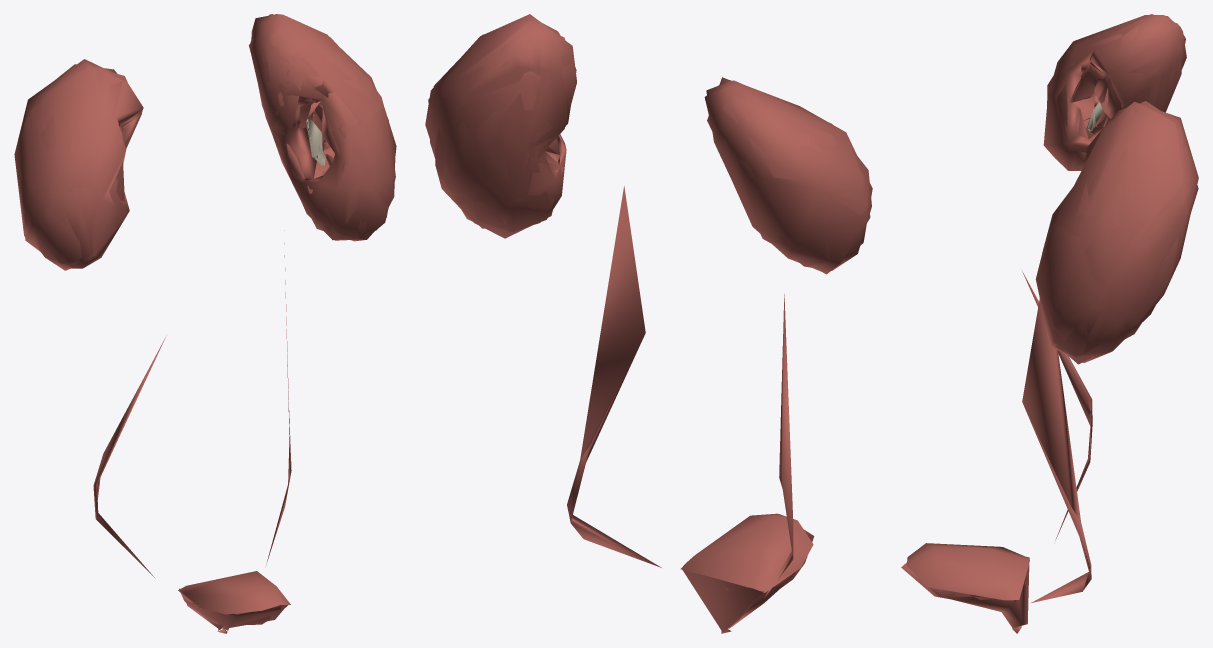
Rendered from adult_female.urinary.LOD4.glb.
3 renders of one model, left to right at view 1: azimuth 30°, elevation 25°; view 2: azimuth 150°, elevation 25°; view 3: azimuth 270°, elevation 25°, orthographic. The views are drawn at different scales.
Visible parts, largest first — view 1: ADULT.FEMALE.URINARY.KIDNEY_CAPSULE.R, ADULT.FEMALE.URINARY.KIDNEY_CAPSULE.L, ADULT.FEMALE.URINARY.OUTER_CORTEX_OF_KIDNEY.L, ADULT.FEMALE.URINARY.FUNDUS_OF_URINARY_BLADDER_DOME, ADULT.FEMALE.URINARY.OUTER_CORTEX_OF_KIDNEY.R, ADULT.FEMALE.URINARY.FUNDUS_OF_URINARY_BLADDER_BASE, ADULT.FEMALE.URINARY.URETER.R, ADULT.FEMALE.URINARY.HILUM_OF_KIDNEY.L, ADULT.FEMALE.URINARY.RENAL_PELVIS.L; view 2: ADULT.FEMALE.URINARY.KIDNEY_CAPSULE.L, ADULT.FEMALE.URINARY.KIDNEY_CAPSULE.R, ADULT.FEMALE.URINARY.URETER.L, ADULT.FEMALE.URINARY.FUNDUS_OF_URINARY_BLADDER_DOME, ADULT.FEMALE.URINARY.OUTER_CORTEX_OF_KIDNEY.L, ADULT.FEMALE.URINARY.FUNDUS_OF_URINARY_BLADDER_BASE, ADULT.FEMALE.URINARY.OUTER_CORTEX_OF_KIDNEY.R, ADULT.FEMALE.URINARY.URETER.R; view 3: ADULT.FEMALE.URINARY.KIDNEY_CAPSULE.L, ADULT.FEMALE.URINARY.KIDNEY_CAPSULE.R, ADULT.FEMALE.URINARY.OUTER_CORTEX_OF_KIDNEY.L, ADULT.FEMALE.URINARY.URETER.L, ADULT.FEMALE.URINARY.FUNDUS_OF_URINARY_BLADDER_DOME, ADULT.FEMALE.URINARY.FUNDUS_OF_URINARY_BLADDER_BASE, ADULT.FEMALE.URINARY.OUTER_CORTEX_OF_KIDNEY.R, ADULT.FEMALE.URINARY.URETER.R, ADULT.FEMALE.URINARY.HILUM_OF_KIDNEY.R.
Boxes of the visible parts, box(x1,y1,x2,y2) form: ADULT.FEMALE.URINARY.KIDNEY_CAPSULE.R: box(14, 59, 143, 270); ADULT.FEMALE.URINARY.KIDNEY_CAPSULE.L: box(250, 14, 396, 241); ADULT.FEMALE.URINARY.OUTER_CORTEX_OF_KIDNEY.L: box(249, 14, 395, 240); ADULT.FEMALE.URINARY.FUNDUS_OF_URINARY_BLADDER_DOME: box(178, 571, 290, 614); ADULT.FEMALE.URINARY.OUTER_CORTEX_OF_KIDNEY.R: box(15, 65, 141, 268); ADULT.FEMALE.URINARY.FUNDUS_OF_URINARY_BLADDER_BASE: box(179, 588, 287, 630); ADULT.FEMALE.URINARY.URETER.R: box(93, 335, 166, 577); ADULT.FEMALE.URINARY.HILUM_OF_KIDNEY.L: box(282, 79, 336, 178); ADULT.FEMALE.URINARY.RENAL_PELVIS.L: box(306, 118, 325, 166); ADULT.FEMALE.URINARY.KIDNEY_CAPSULE.L: box(425, 14, 576, 232); ADULT.FEMALE.URINARY.KIDNEY_CAPSULE.R: box(704, 79, 872, 270); ADULT.FEMALE.URINARY.URETER.L: box(567, 185, 661, 567); ADULT.FEMALE.URINARY.FUNDUS_OF_URINARY_BLADDER_DOME: box(680, 513, 813, 592); ADULT.FEMALE.URINARY.OUTER_CORTEX_OF_KIDNEY.L: box(433, 22, 576, 238); ADULT.FEMALE.URINARY.FUNDUS_OF_URINARY_BLADDER_BASE: box(682, 514, 814, 632); ADULT.FEMALE.URINARY.OUTER_CORTEX_OF_KIDNEY.R: box(707, 77, 870, 274); ADULT.FEMALE.URINARY.URETER.R: box(765, 294, 793, 596); ADULT.FEMALE.URINARY.KIDNEY_CAPSULE.L: box(1035, 102, 1198, 362); ADULT.FEMALE.URINARY.KIDNEY_CAPSULE.R: box(1043, 15, 1186, 170); ADULT.FEMALE.URINARY.OUTER_CORTEX_OF_KIDNEY.L: box(1038, 101, 1198, 364); ADULT.FEMALE.URINARY.URETER.L: box(1022, 298, 1091, 603); ADULT.FEMALE.URINARY.FUNDUS_OF_URINARY_BLADDER_DOME: box(906, 543, 1029, 600); ADULT.FEMALE.URINARY.FUNDUS_OF_URINARY_BLADDER_BASE: box(901, 556, 1029, 628); ADULT.FEMALE.URINARY.OUTER_CORTEX_OF_KIDNEY.R: box(1061, 14, 1185, 169); ADULT.FEMALE.URINARY.URETER.R: box(1022, 271, 1092, 540); ADULT.FEMALE.URINARY.HILUM_OF_KIDNEY.R: box(1072, 70, 1107, 130).
Size of the model in its own units: 0.2245 by 0.3198 by 0.1462.
